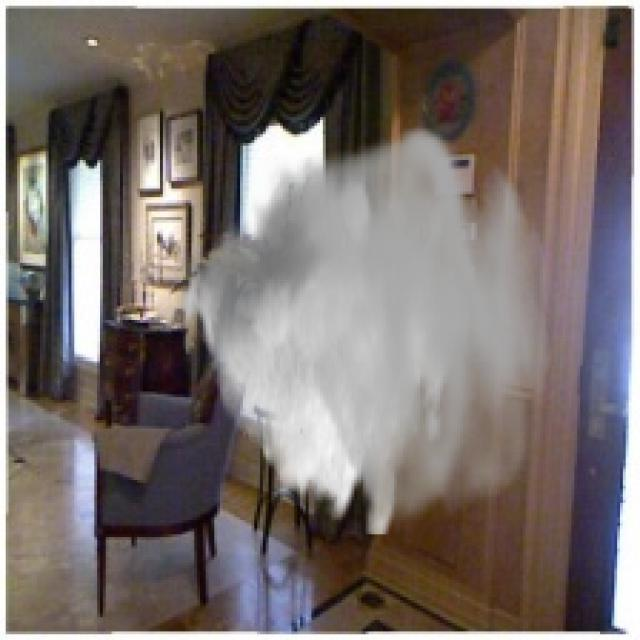Smoke: (177, 120, 552, 534)
